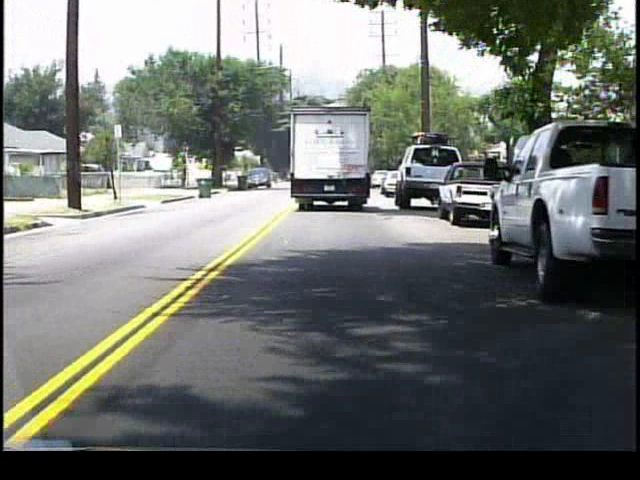person: (181, 164, 191, 189)
